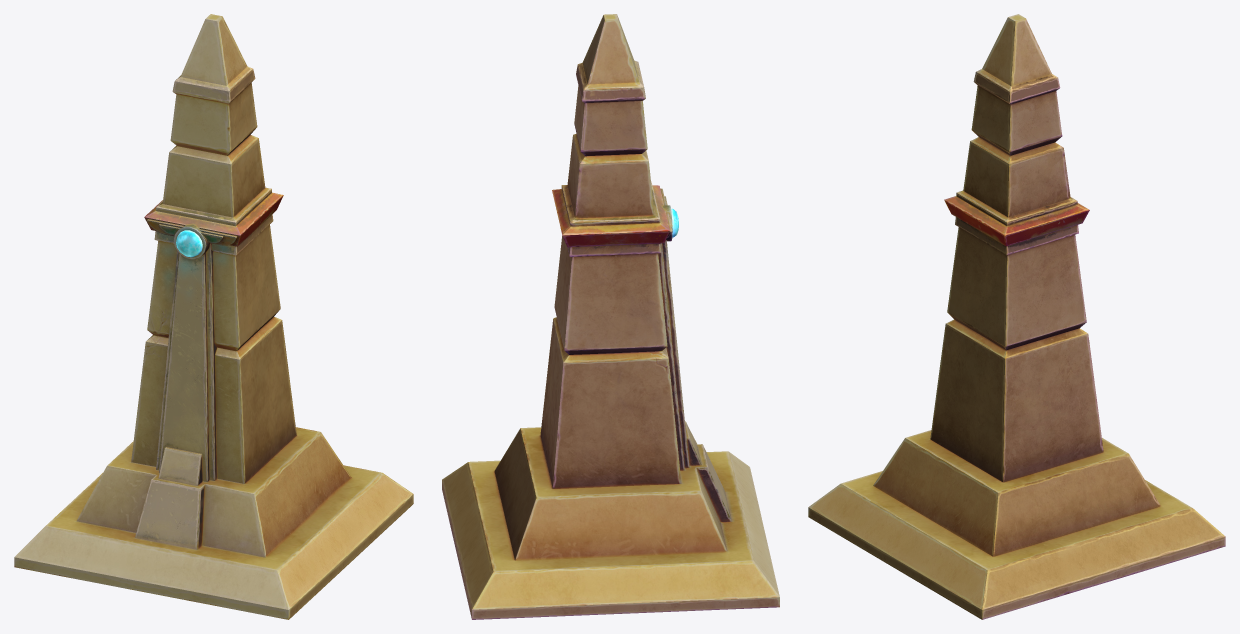
File: stylized_egyptian_pillar.glb
The picture shows the model from 3 angles, left to right: view 1: azimuth 30°, elevation 25°; view 2: azimuth 150°, elevation 25°; view 3: azimuth 270°, elevation 25°; orthographic projection. The views are drawn at different scales.
Visible parts, largest first — view 1: PillarScarab; view 2: PillarScarab; view 3: PillarScarab.
Part boxes in pixels (x1,y1,x2,y2): PillarScarab: (14, 14, 413, 619); PillarScarab: (442, 14, 779, 619); PillarScarab: (808, 14, 1225, 619).
Size of the model in its own units: 1.21 by 1.65 by 1.21.
1 material, 1 textured.
